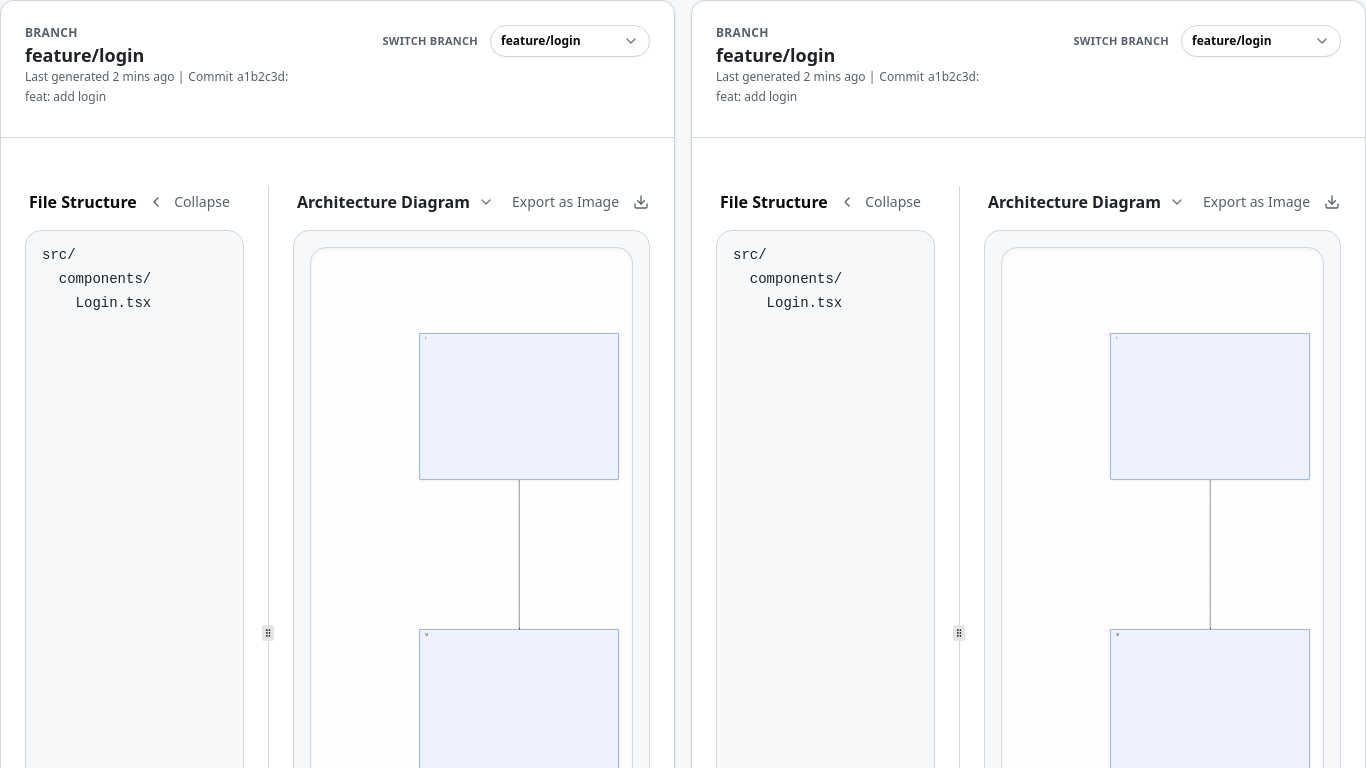
Scenario: DiagramPanel › Multiple Panels › collapse state is independent across multiple panels
The width and height of the screenshot is (1366, 768).
Step 1. Click the 1st button "Collapse" → (189, 202), box [138,186,240,218]
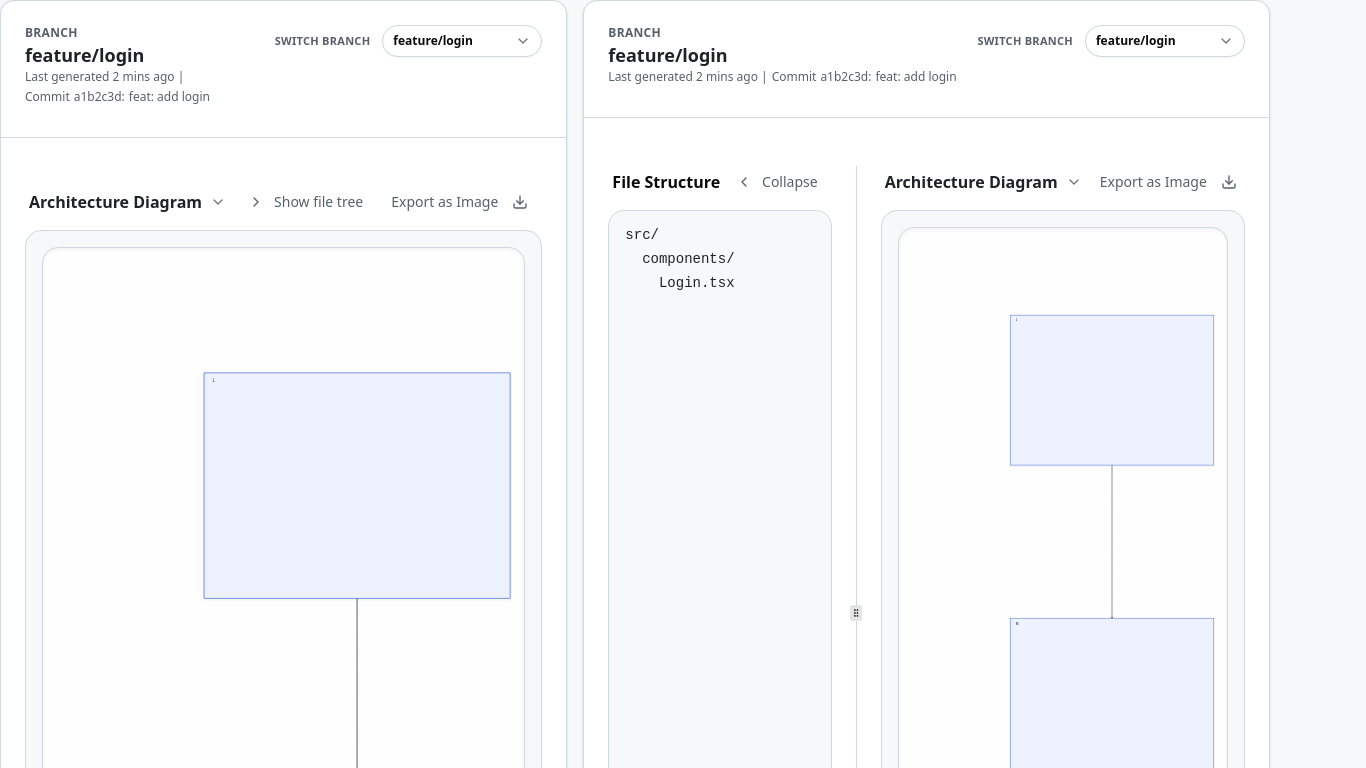
expect the text "File Structure" is shown: met, box [612,170,720,194]
expect the button "Show file tree" is shown: met, box [238,186,373,218]
